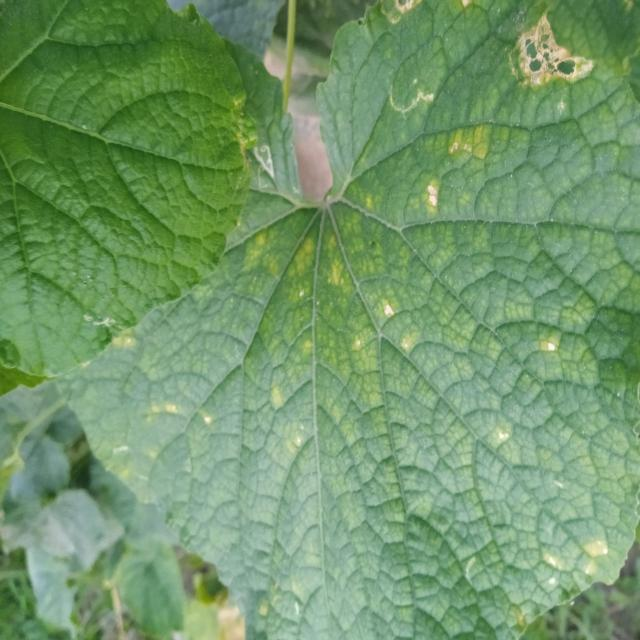cucumber_downy: (95, 19, 640, 631)
